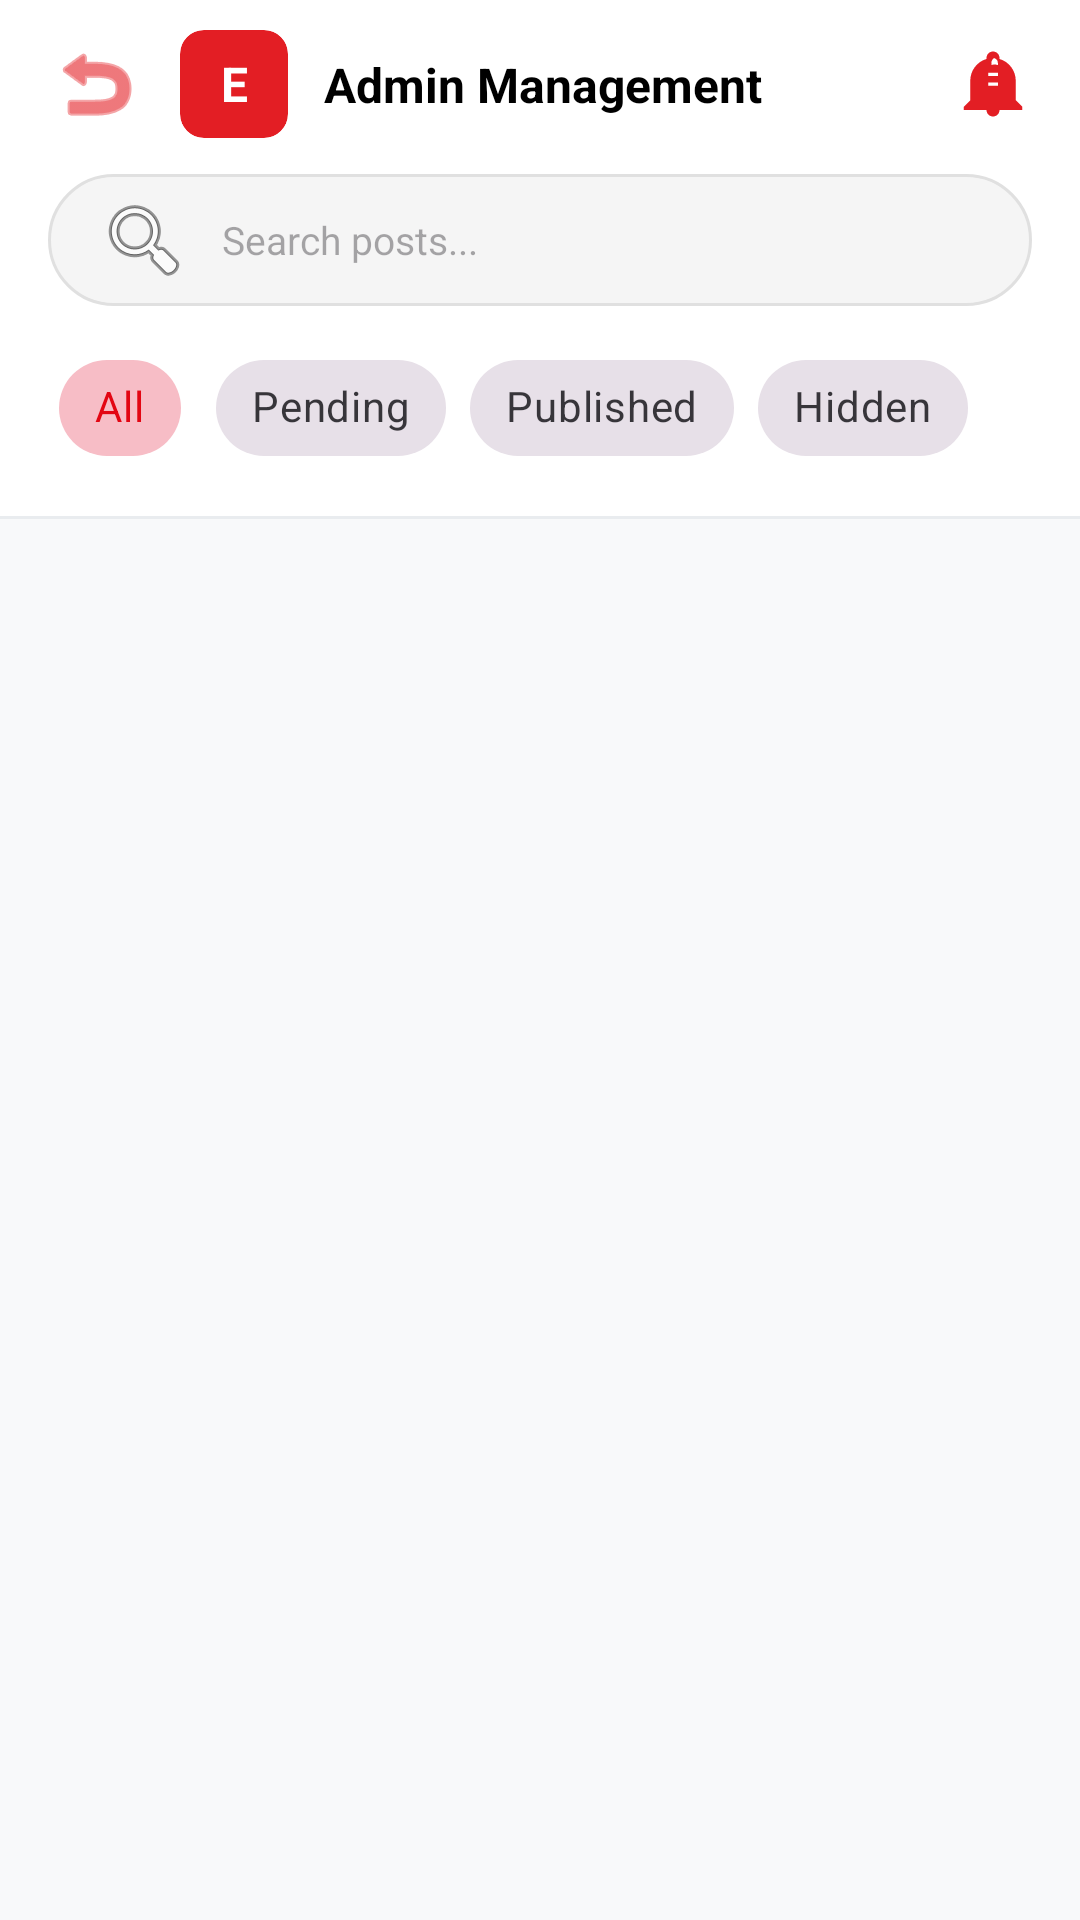

Named icons in this screenshot (1080×1920) and their bounding boxes, (x1, y1, x2, y2):
Back: (63, 53, 132, 116)
notification bell: (963, 51, 1023, 117)
